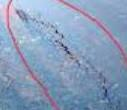crack: (12, 6, 82, 65)
